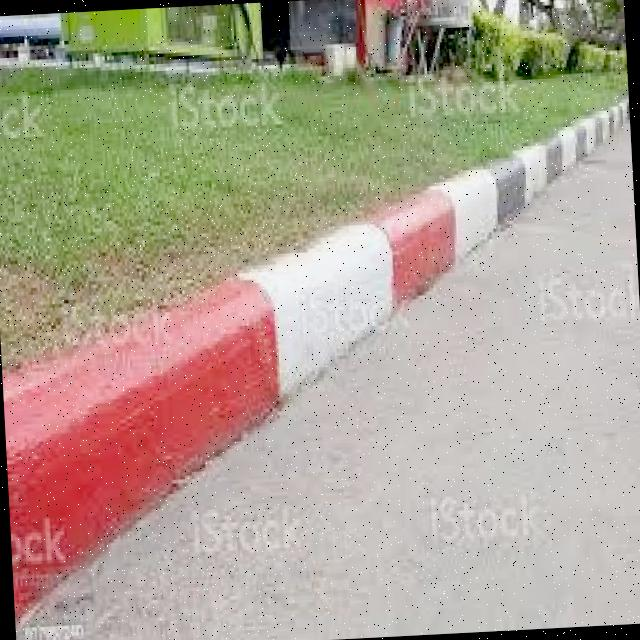curb: (6, 276, 340, 624), (253, 200, 471, 374), (444, 100, 626, 255)
